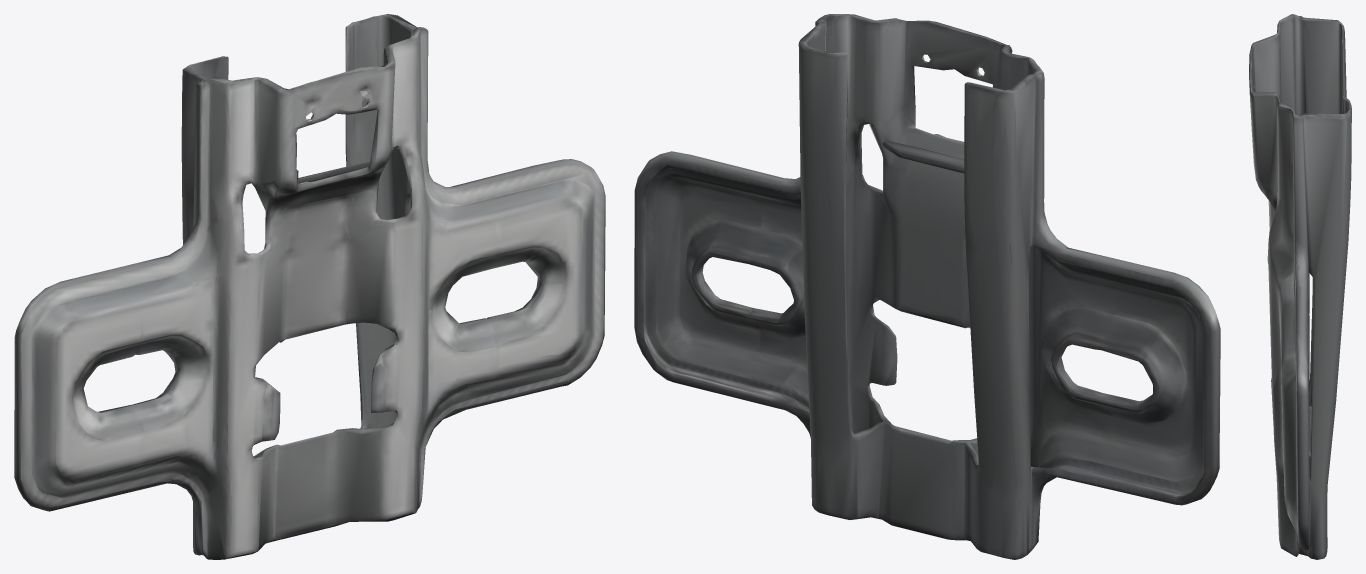
The model's file is hinge-plate.glb.
The picture shows the model from 3 angles, left to right: view 1: azimuth 30°, elevation 25°; view 2: azimuth 150°, elevation 25°; view 3: azimuth 270°, elevation 25°; orthographic projection. The views are drawn at different scales.
Visible parts, largest first — view 1: node_0; view 2: node_0; view 3: node_0.
Part boxes in pixels (x1,y1,x2,y2): node_0: (14,14,605,559); node_0: (634,14,1220,559); node_0: (1249,14,1351,559).
Size of the model in its own units: 1.09 by 0.8648 by 0.1776.
1 material, 1 textured.
